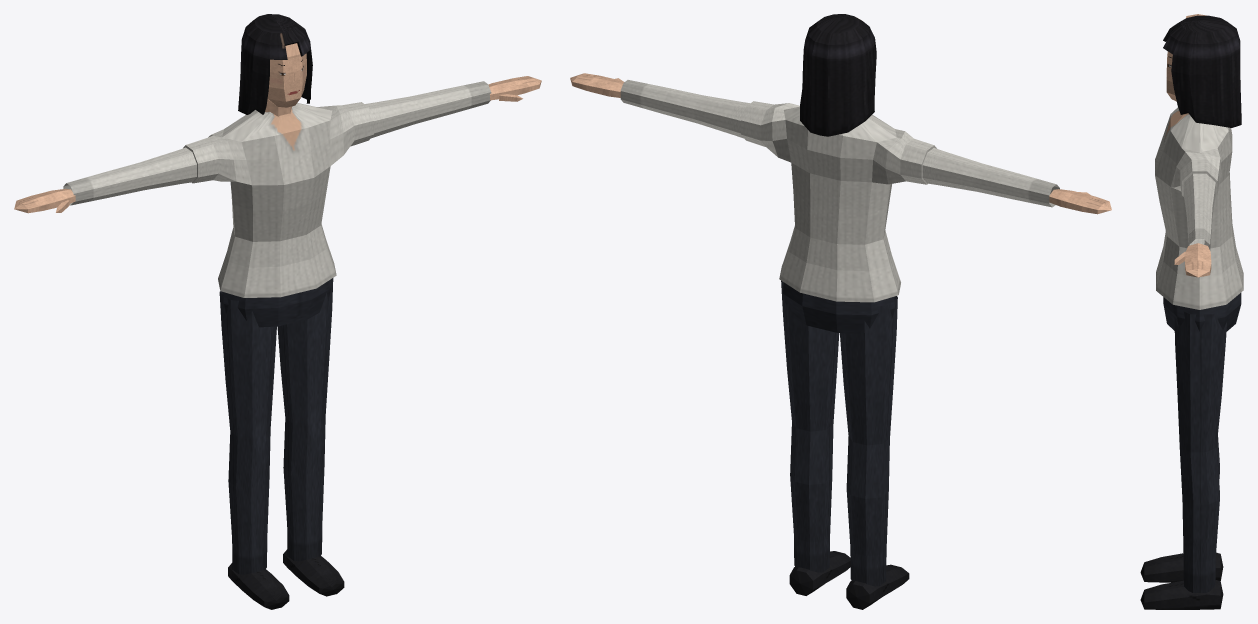
The model's file is Emilia_fuer_Mixamo.fbx.
3 views of the same model, side by side, from view 1: azimuth 30°, elevation 25°; view 2: azimuth 150°, elevation 25°; view 3: azimuth 270°, elevation 25° (orthographic). The views are drawn at different scales.
Parts seen in each view (by area): view 1: Emilia_Mesh; view 2: Emilia_Mesh; view 3: Emilia_Mesh.
Boxes of the visible parts, left/top/right/bottom form: Emilia_Mesh: left=14, top=14, right=541, bottom=609; Emilia_Mesh: left=570, top=14, right=1111, bottom=609; Emilia_Mesh: left=1140, top=14, right=1243, bottom=609.
Bounding box in the file's own units: 1.63 × 1.66 × 0.2697.
1 material, 1 textured.
